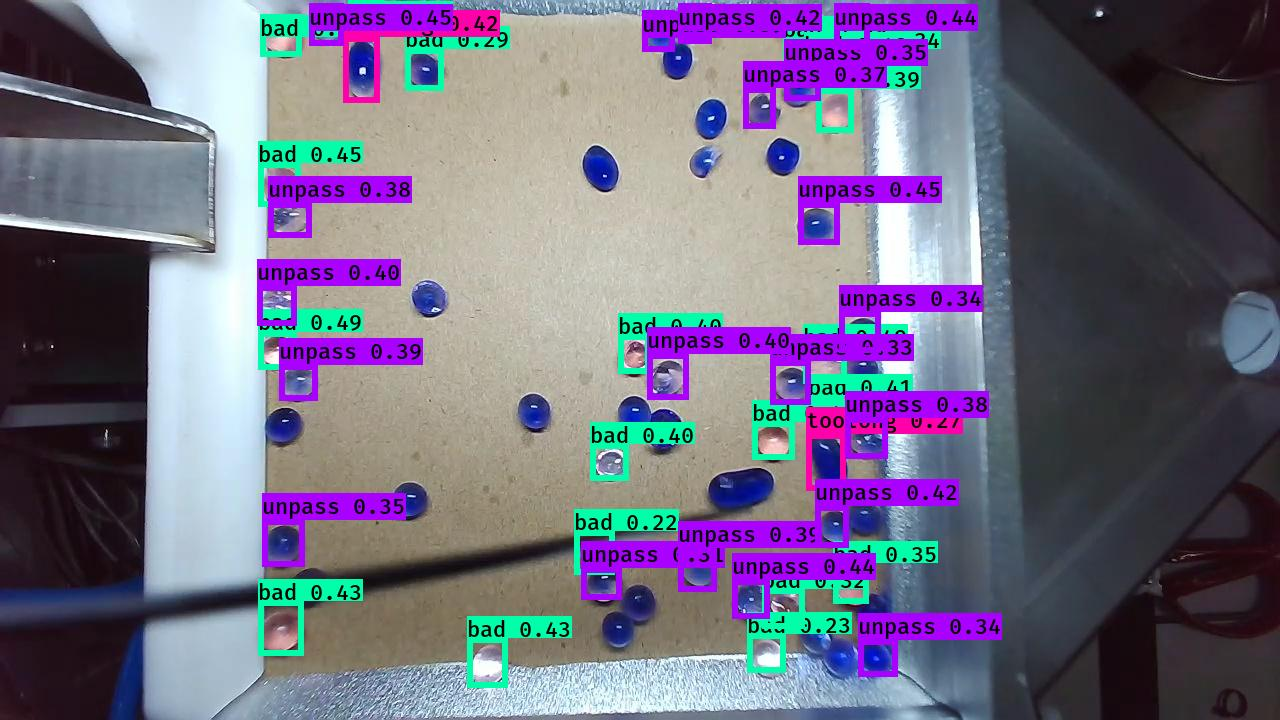bad: (839, 383, 890, 431), (256, 606, 304, 655), (784, 15, 829, 62), (266, 9, 310, 55), (815, 92, 859, 135), (467, 641, 507, 686), (261, 163, 304, 204), (747, 638, 788, 679), (765, 588, 806, 629), (831, 566, 870, 609), (260, 331, 299, 371), (578, 529, 616, 570), (832, 52, 873, 89), (592, 444, 633, 481), (347, 2, 385, 40), (404, 53, 440, 92), (753, 423, 790, 460), (809, 347, 845, 384), (616, 343, 652, 379), (808, 404, 843, 440), (802, 53, 835, 91)
defact: (687, 143, 727, 181)
pass: (578, 144, 621, 195), (386, 479, 431, 523), (846, 494, 887, 539), (646, 407, 686, 453), (612, 392, 654, 435), (515, 391, 555, 435), (261, 406, 304, 446), (690, 94, 729, 138), (598, 608, 636, 652), (763, 135, 801, 178), (412, 277, 452, 317), (619, 580, 656, 623), (857, 591, 892, 632), (662, 45, 696, 83)
toolong: (703, 465, 777, 511), (352, 36, 392, 102), (808, 432, 851, 492)
unpass: (794, 201, 844, 246), (260, 525, 308, 570), (832, 1, 875, 51), (836, 344, 880, 387), (256, 286, 300, 327), (647, 356, 686, 402), (269, 201, 314, 240), (769, 361, 808, 404), (845, 421, 889, 459), (822, 638, 862, 678), (842, 311, 882, 351), (731, 580, 768, 622), (680, 550, 717, 591), (800, 614, 836, 656), (584, 563, 622, 602), (278, 365, 319, 401), (858, 639, 897, 676), (679, 8, 715, 48), (747, 89, 781, 130), (309, 5, 346, 42), (816, 509, 851, 547), (640, 15, 674, 52)
